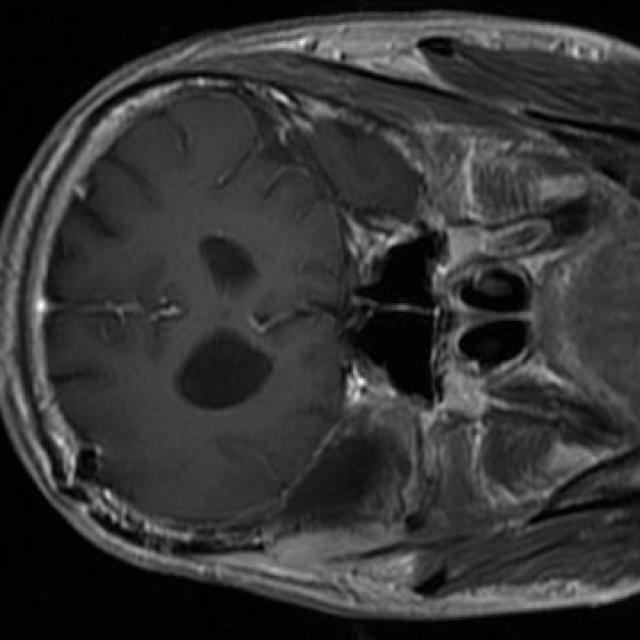glioma: (251, 415, 410, 546)
